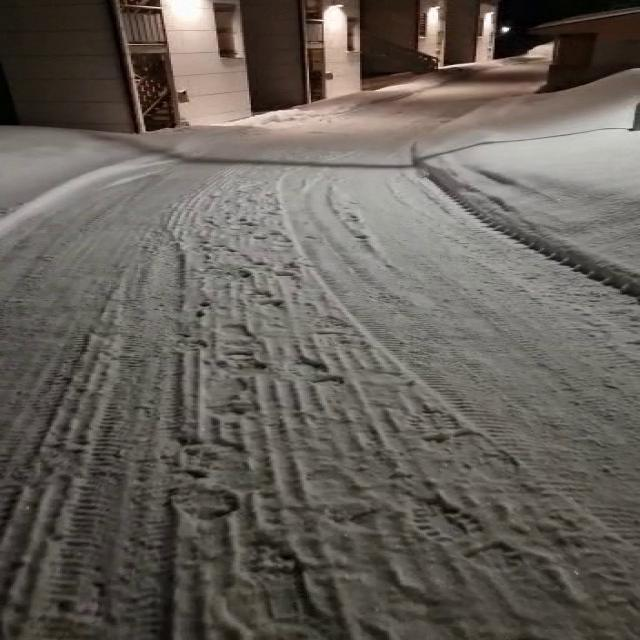path: (2, 59, 638, 640)
